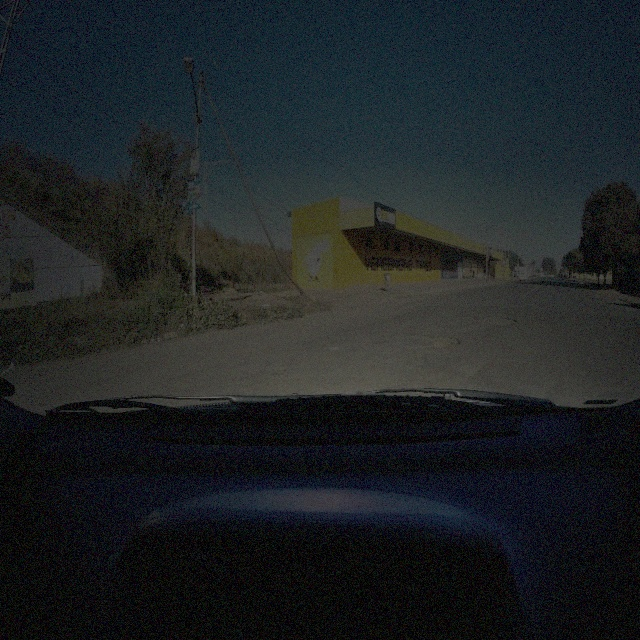pothole: (453, 312, 519, 330), (406, 330, 461, 350)
